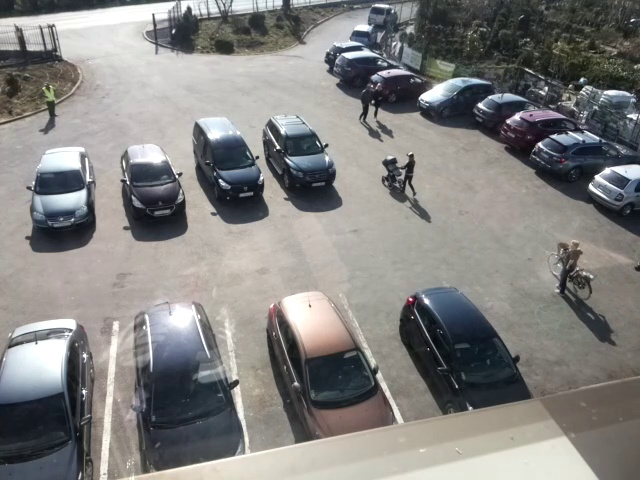car: (135, 300, 249, 472), (266, 288, 393, 440), (398, 285, 531, 418), (2, 318, 94, 480), (194, 117, 266, 205), (31, 146, 96, 233), (262, 112, 336, 188), (122, 143, 186, 222), (529, 132, 638, 178), (499, 107, 590, 154), (415, 76, 496, 119), (472, 92, 548, 131), (587, 163, 640, 217), (331, 52, 407, 87), (370, 68, 434, 103), (324, 41, 374, 71), (366, 1, 398, 29), (348, 22, 383, 46)
